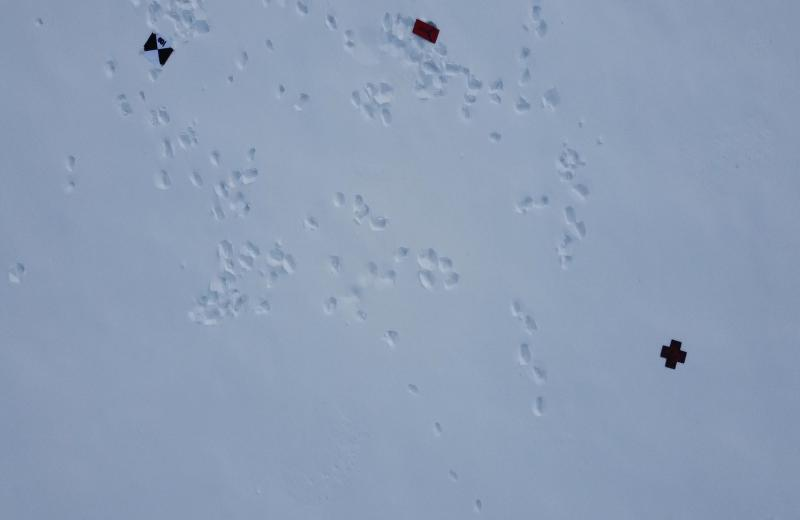Cross: (660, 337, 689, 374)
Rectangle: (410, 16, 442, 46)
